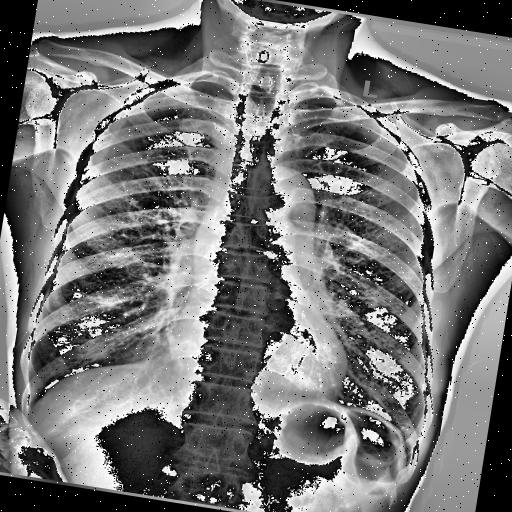0- Aortic enlargement: (247, 164, 322, 256), (251, 164, 327, 235), (264, 165, 321, 217)
6- Infiltration: (74, 322, 138, 374)
8- Nodule-Mass: (360, 294, 380, 310)
